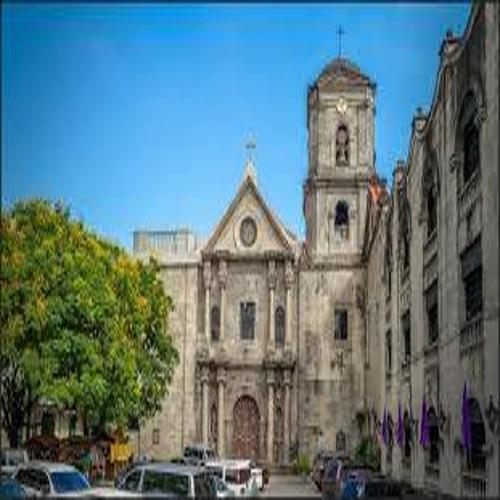San Agustin Church: (190, 12, 381, 478)
